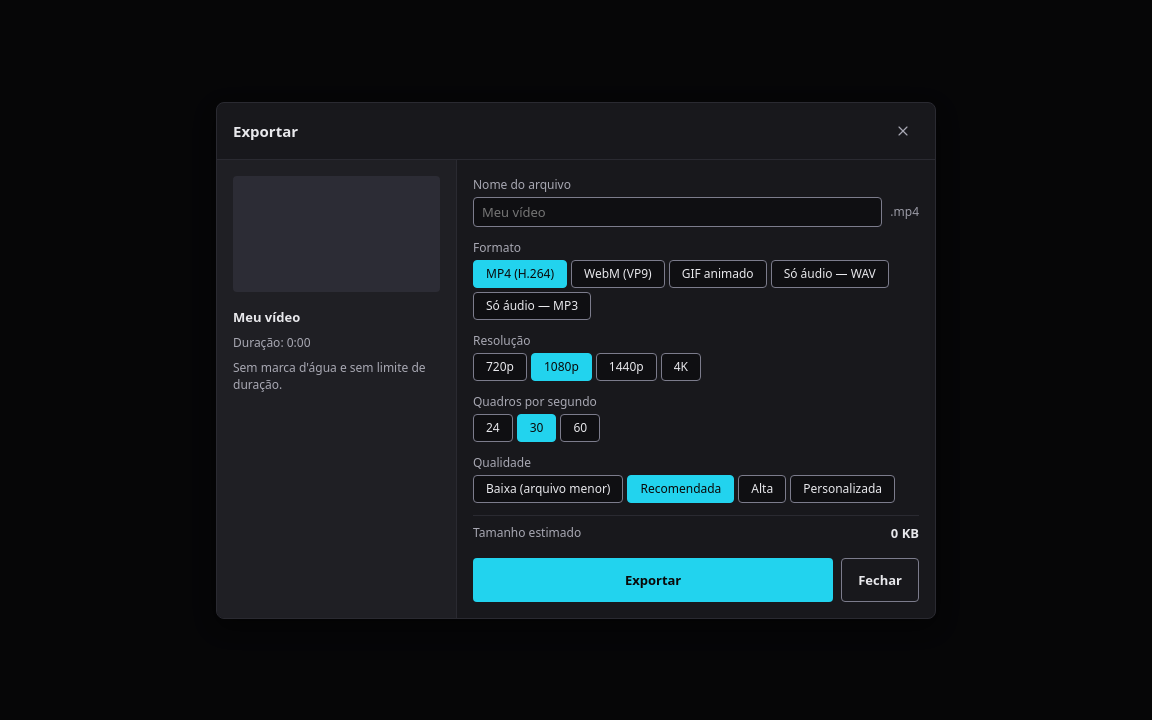
ExportDialog › mostra o progresso, a fase e o tempo restante
Step 1. Click the button "Exportar" → x=653, y=580, box left=473, top=558, right=833, bottom=602
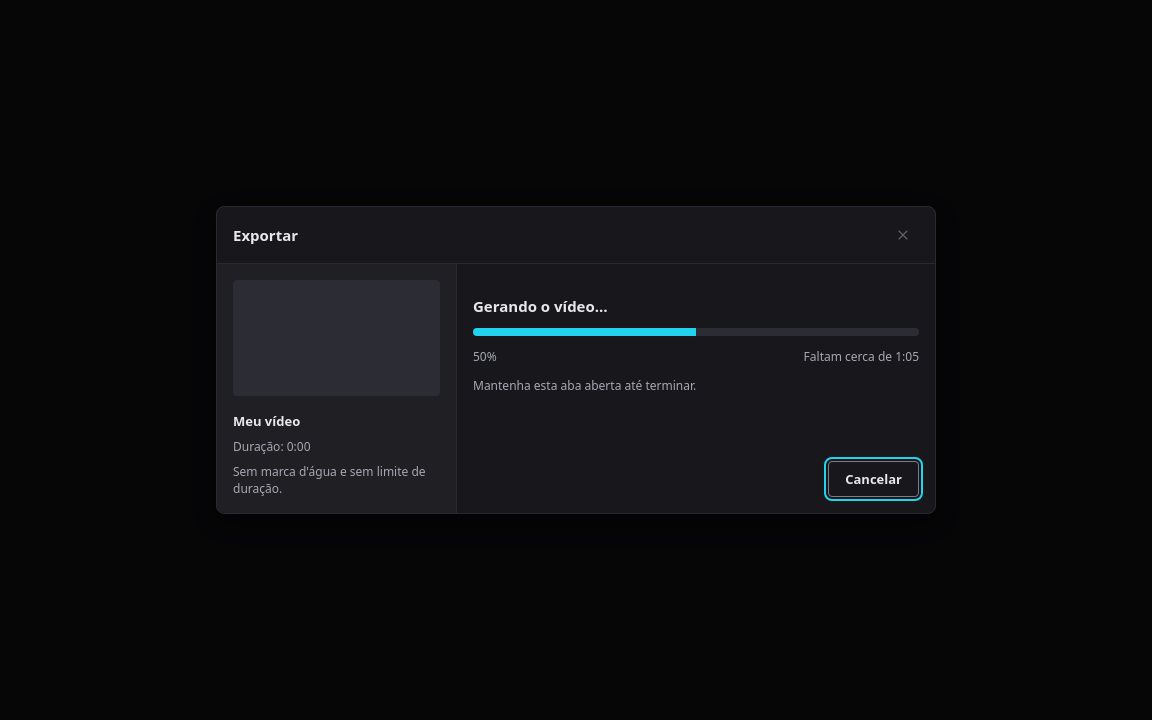
Check: the text "Gerando o vídeo…" is shown, box left=473, top=296, right=608, bottom=316
